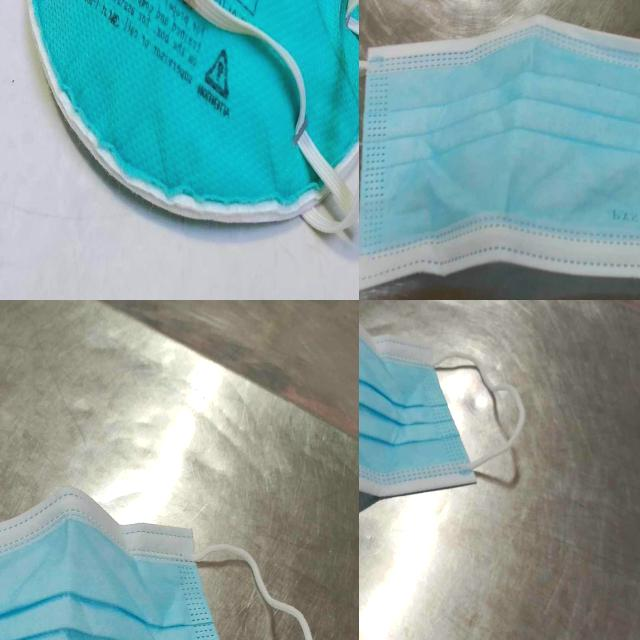General: (26, 0, 362, 239), (2, 484, 222, 639)
Pathological: (359, 12, 639, 293)
